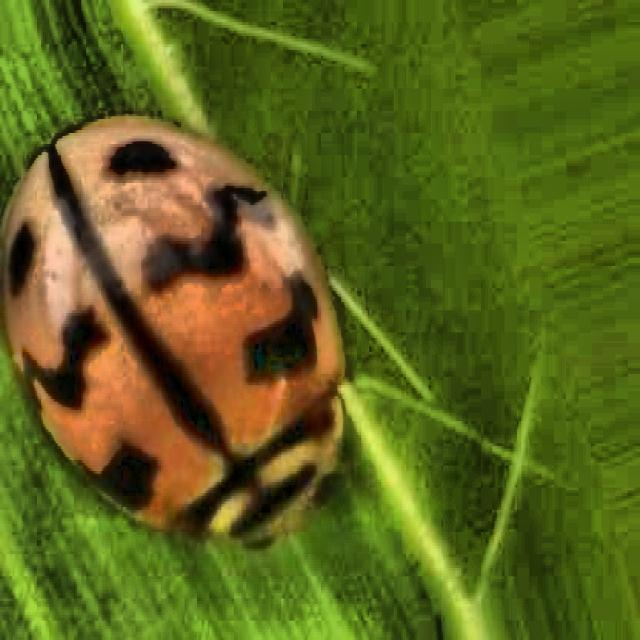Asian-Lady-beetle: (0, 106, 359, 563)
